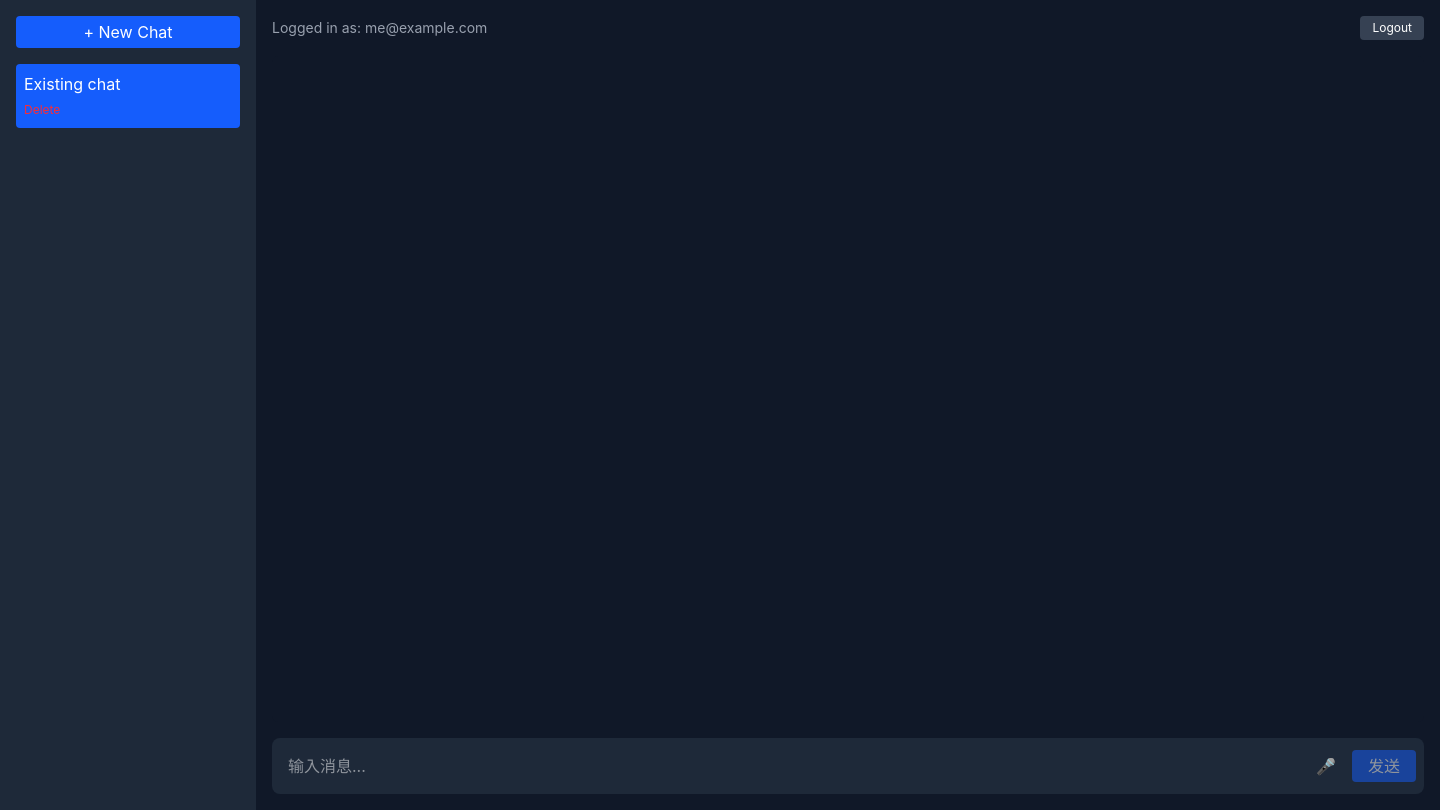
Test case: Home – sending a message › the error banner can be dismissed and is cleared by the next send
Expected: the text "Existing chat" is shown, left=24, top=74, right=120, bottom=94
Type "你好" into the field with placeholder "输入消息..." at [790, 766], box left=280, top=754, right=1300, bottom=778
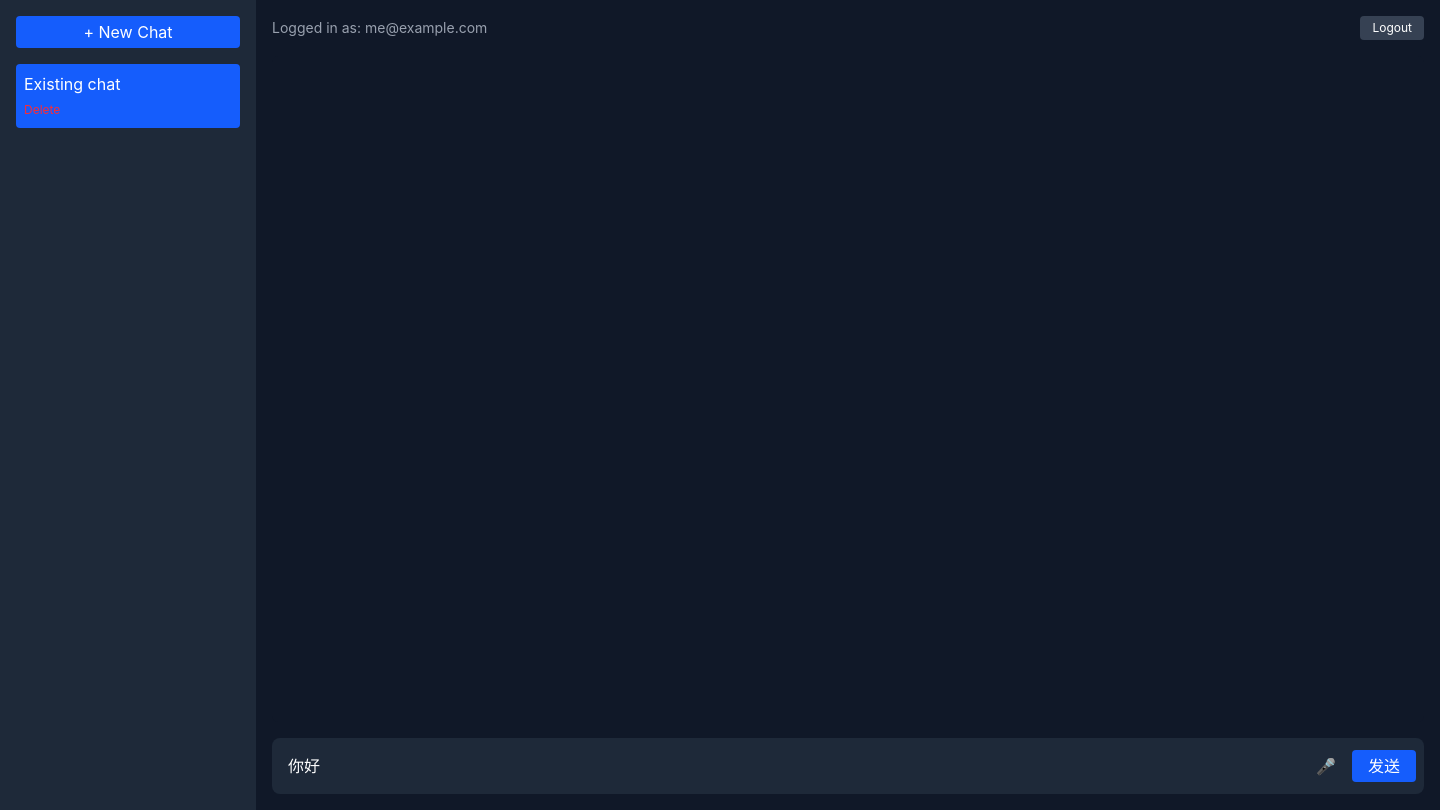
Click the button "发送" at [1384, 766], box left=1352, top=750, right=1416, bottom=782
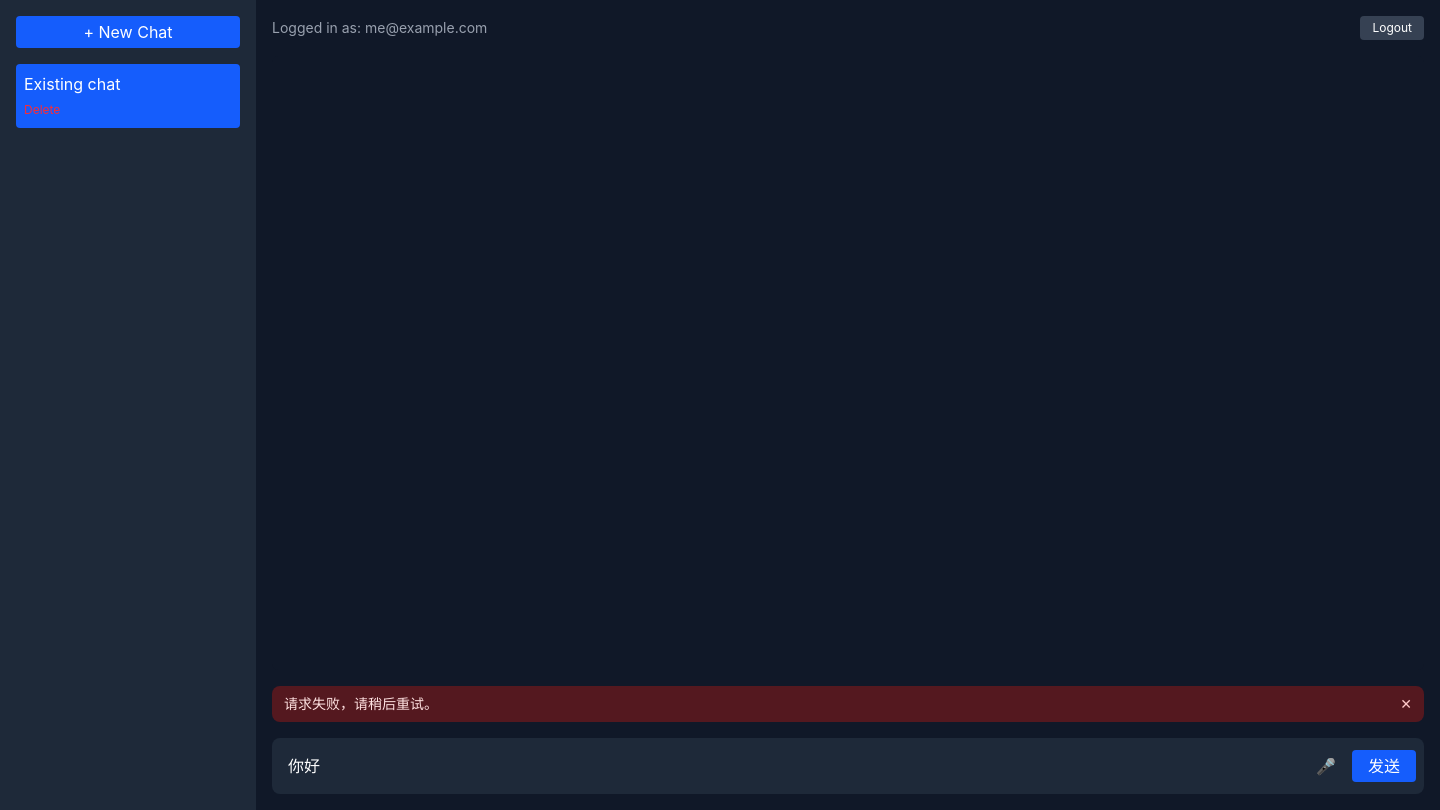
Result: the message "请求失败，请稍后重试。 ✕" is shown at left=272, top=686, right=1424, bottom=722
Click the button named "关闭错误提示" at [1406, 704], box left=1400, top=694, right=1412, bottom=714
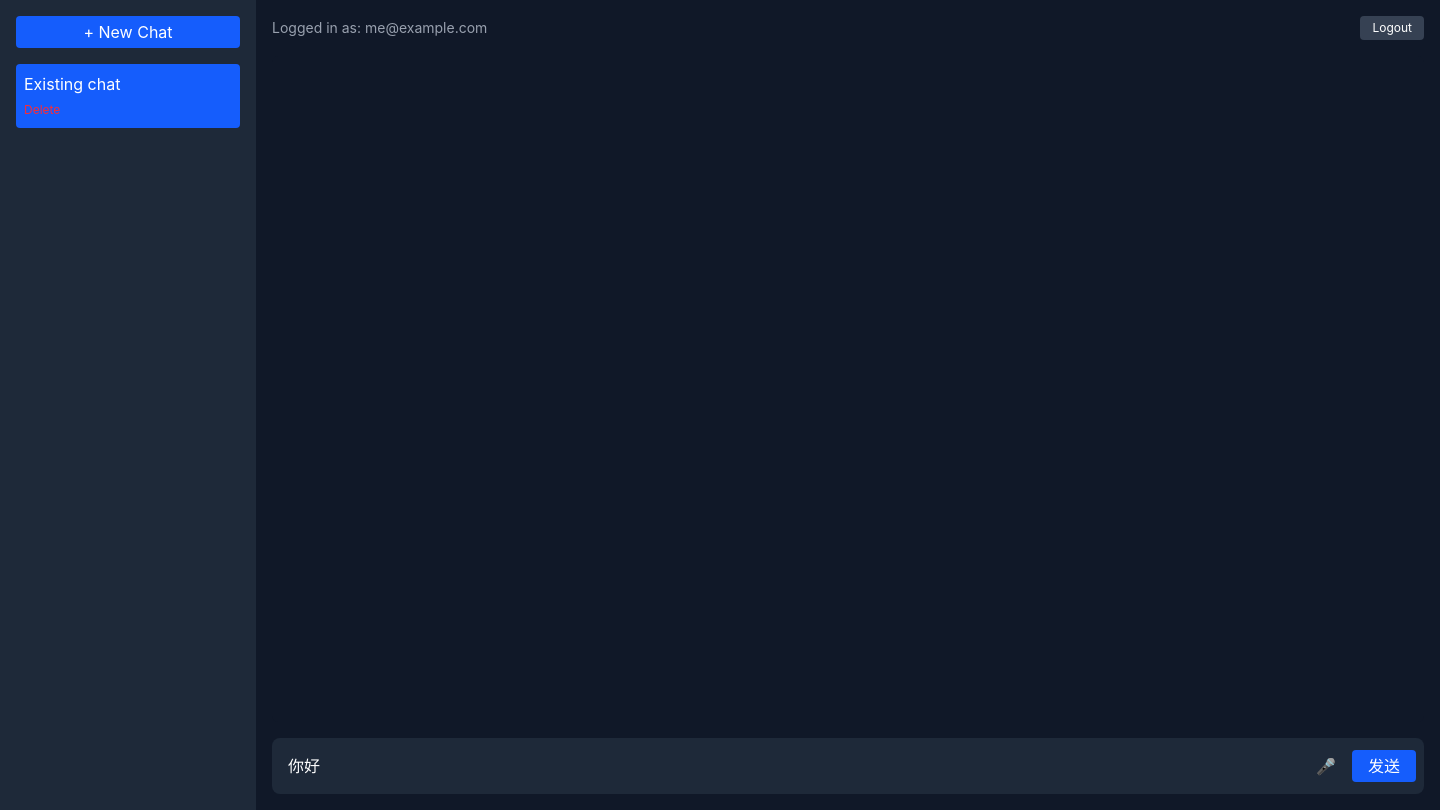
Result: the message "请求失败，请稍后重试。 ✕" is gone
Click the button "发送" at [1384, 766], box left=1352, top=750, right=1416, bottom=782
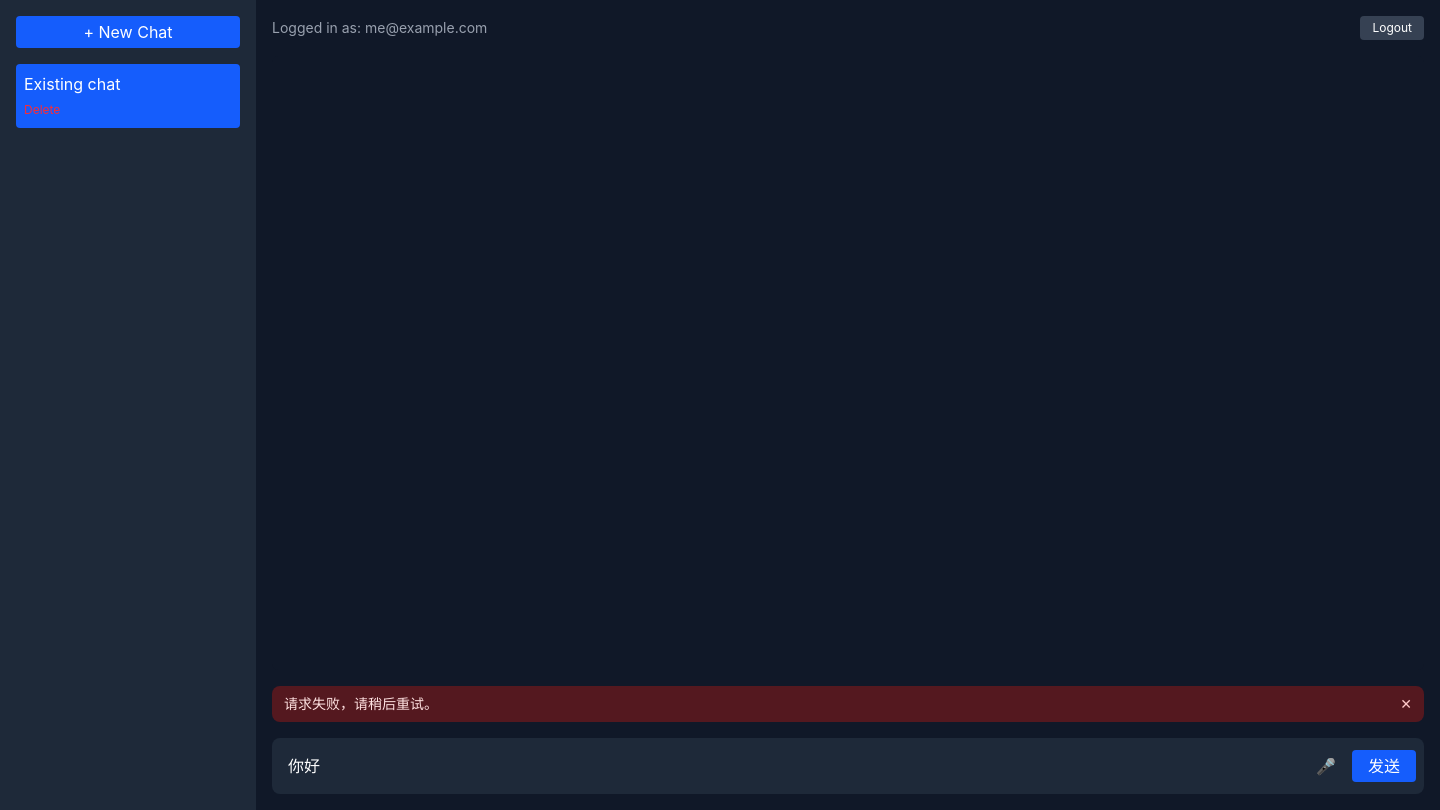
Result: the message "请求失败，请稍后重试。 ✕" is shown at left=272, top=686, right=1424, bottom=722
